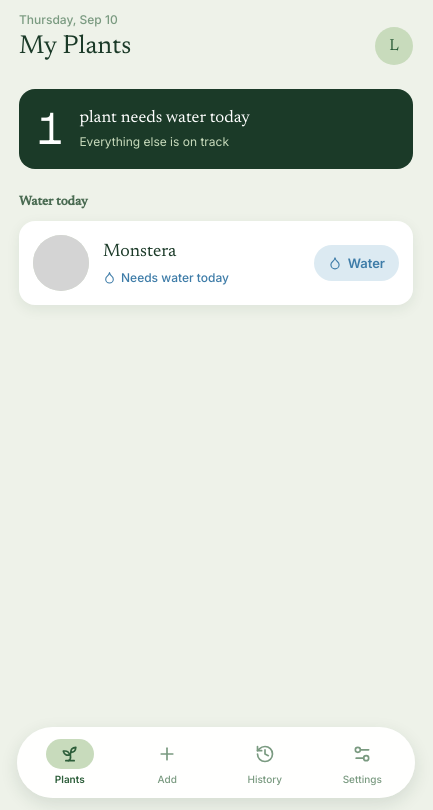
Scenario: App › navigates to a plant detail and shows the water action
Click the link "Monstera Needs water today".
click(131, 263)  # box top-left (33, 235), bottom-right (229, 291)
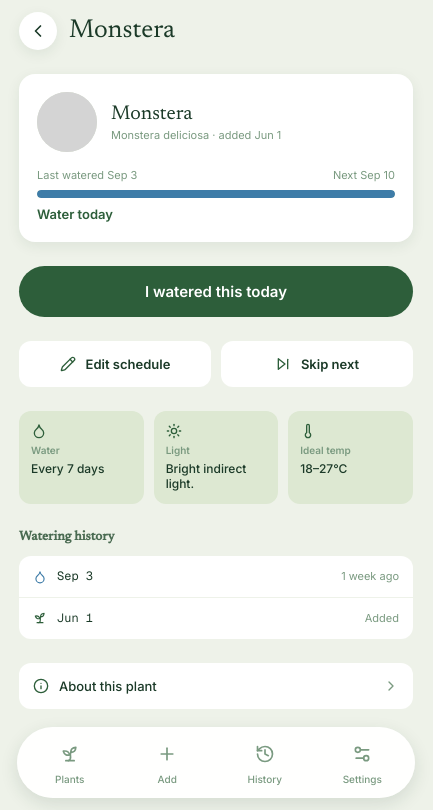
Check: the button "I watered this today" is shown, box top-left (19, 266), bottom-right (413, 317)
